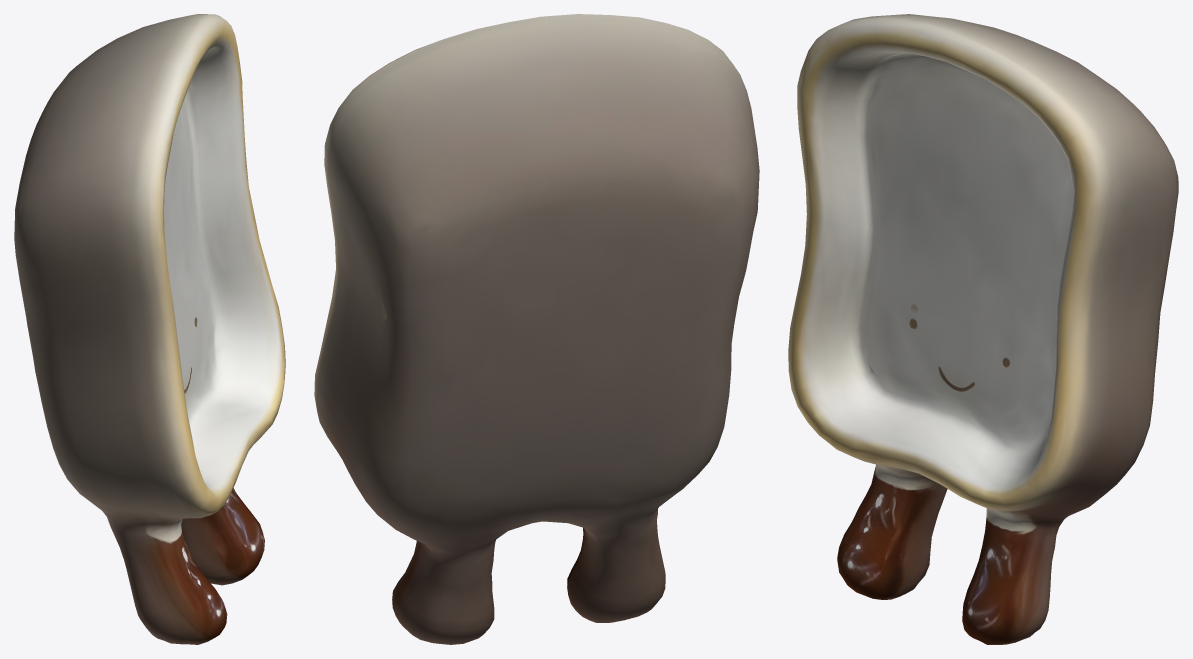
The model's file is 面包碟.glb.
3 views of the same model, side by side, from view 1: azimuth 30°, elevation 25°; view 2: azimuth 150°, elevation 25°; view 3: azimuth 270°, elevation 25° (orthographic). The views are drawn at different scales.
Visible parts, largest first — view 1: tripo_node_5a04f361-74df-4b9c-ab13-262a322fb498; view 2: tripo_node_5a04f361-74df-4b9c-ab13-262a322fb498; view 3: tripo_node_5a04f361-74df-4b9c-ab13-262a322fb498.
Boxes of the visible parts, x1,y1,x2,y2 form: tripo_node_5a04f361-74df-4b9c-ab13-262a322fb498: (14,14,285,644); tripo_node_5a04f361-74df-4b9c-ab13-262a322fb498: (314,14,759,644); tripo_node_5a04f361-74df-4b9c-ab13-262a322fb498: (788,14,1178,644).
Size of the model in its own units: 0.6625 by 1.1 by 0.673.
Materials: 1 (1 with a texture image).
